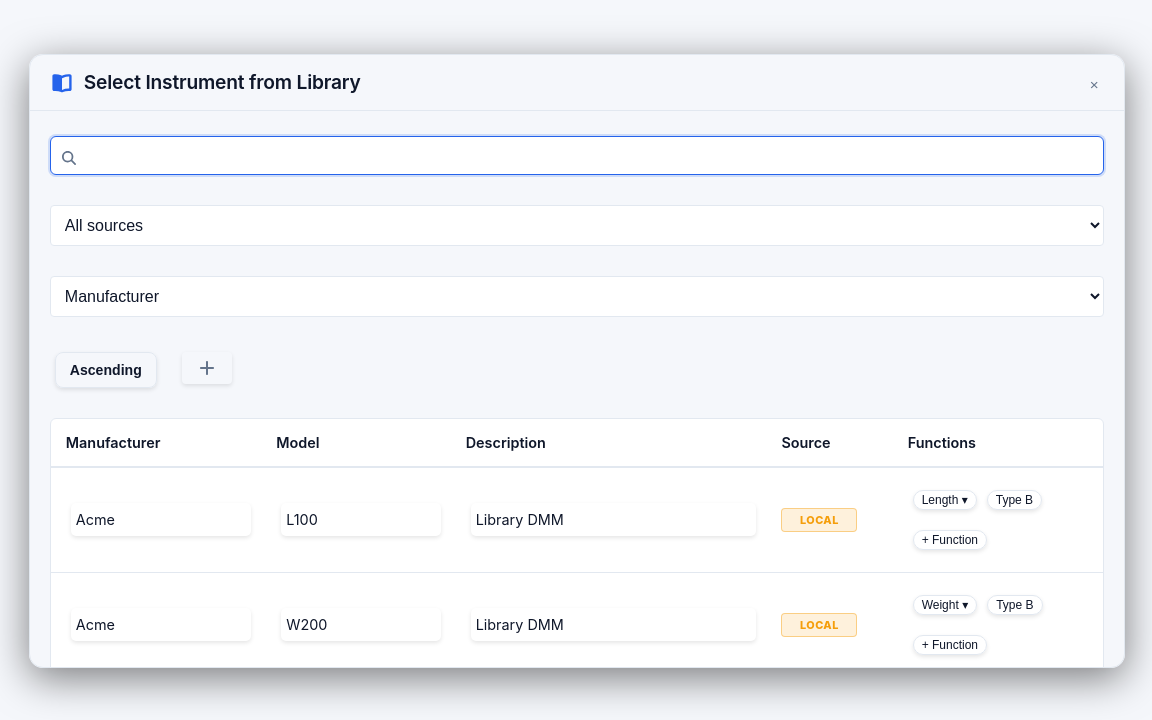
Test: UniversalInstrumentModal library synchronization › finds instruments by function without choosing one automatically
This screenshot has width=1152, height=720.
Type "length" into the field named "Search instruments" at (577, 155), box x1=50 y1=136 x2=1104 y2=175
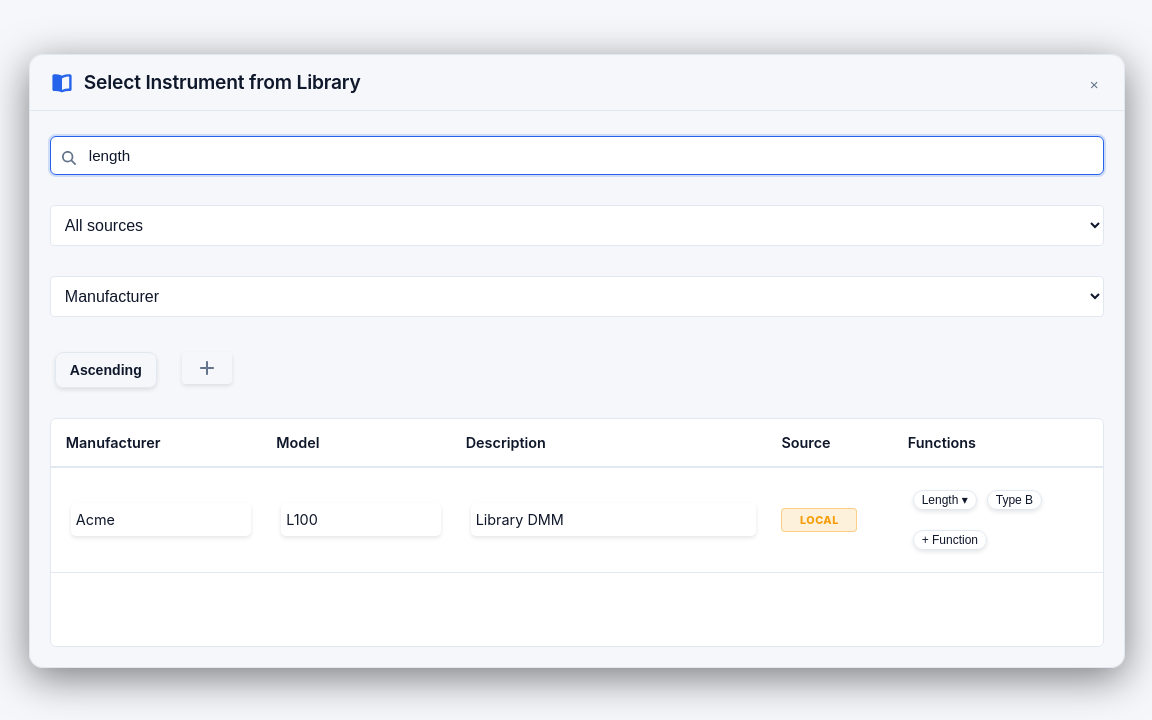
Expected: the button "L100" is shown, x1=281 y1=503 x2=441 y2=536
Expected: the button "W200" is gone
